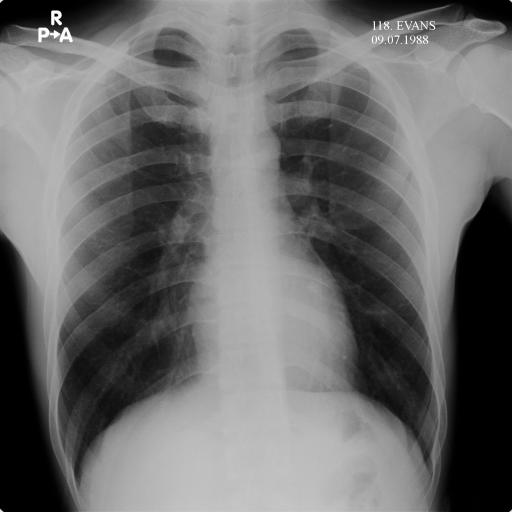normal: (40, 16, 456, 499)
